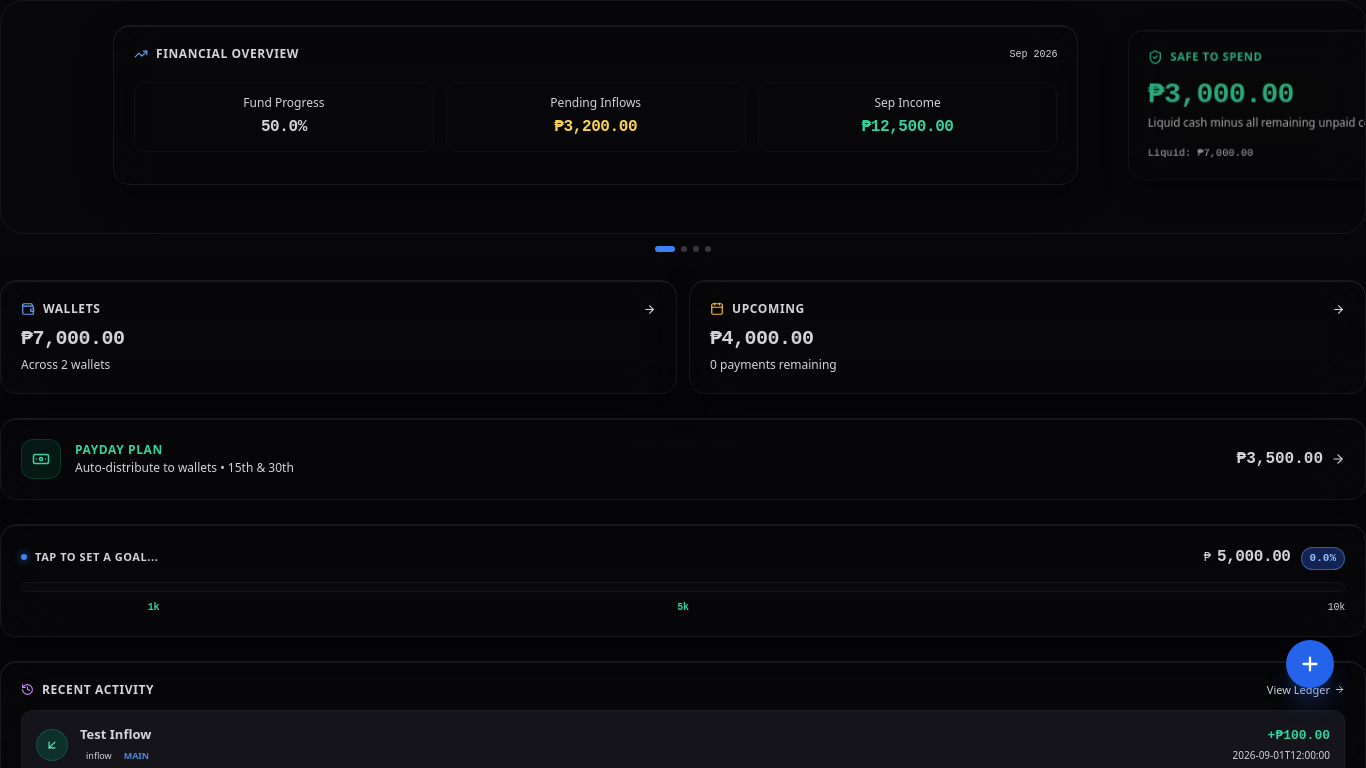
Test: DashboardTab › renders Payday Plan card and opens PaydayModal when clicked
The width and height of the screenshot is (1366, 768).
Expected: the heading "Payday Plan" is shown, [75,442,163,458]
Expected: the text "₱3,500.00" is shown, [1237,447,1323,471]
Click the text "Payday Plan".
click(683, 459)  # box [0,418,1365,500]
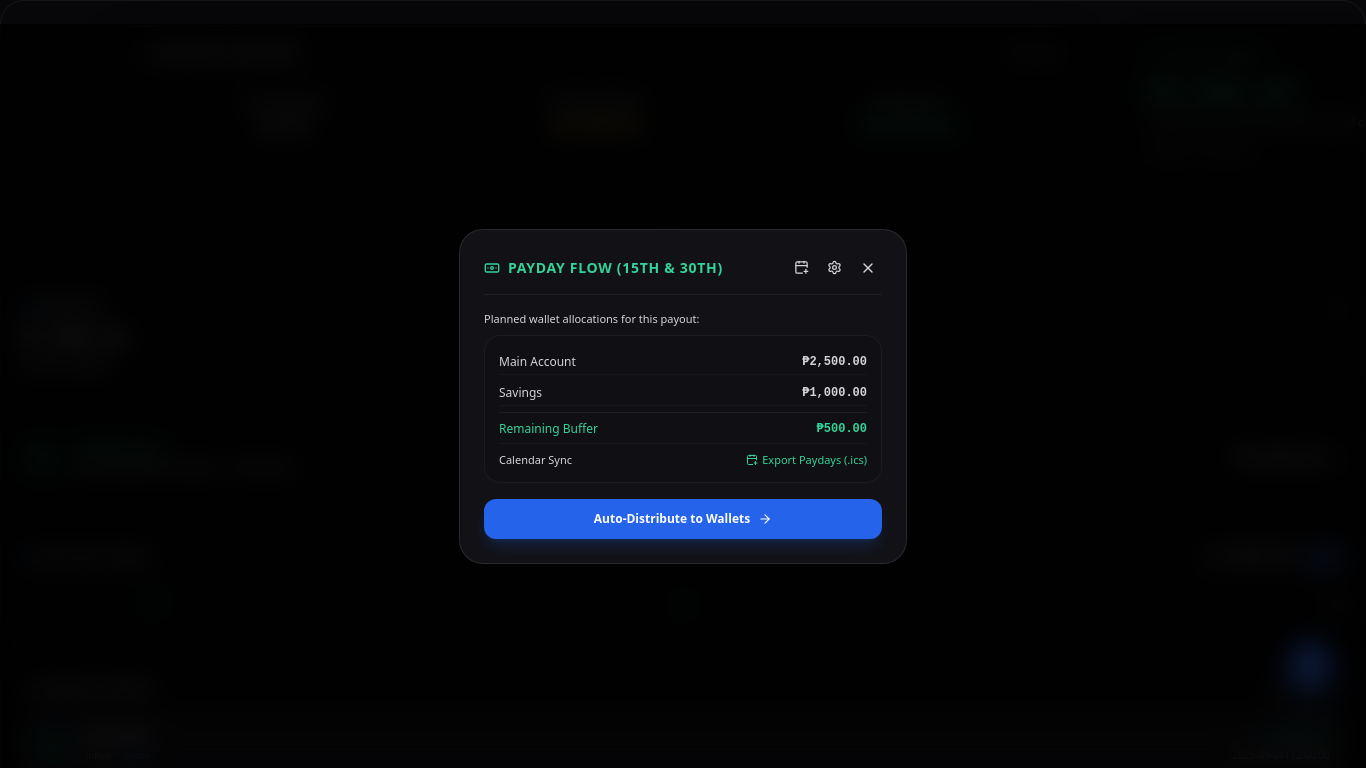
Now the dialog named "Payday Distribution Modal" is shown
Now the text "Auto-Distribute to Wallets" is shown, box [594,510,750,526]
